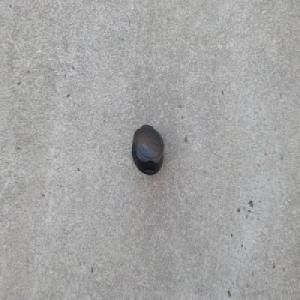FuelCap: (131, 124, 164, 176)
